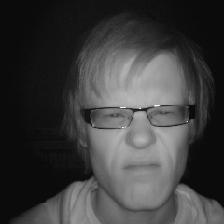sad: (59, 24, 207, 214)
